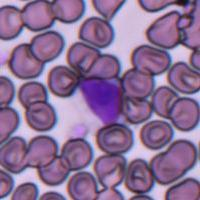L: (80, 76, 121, 126)
